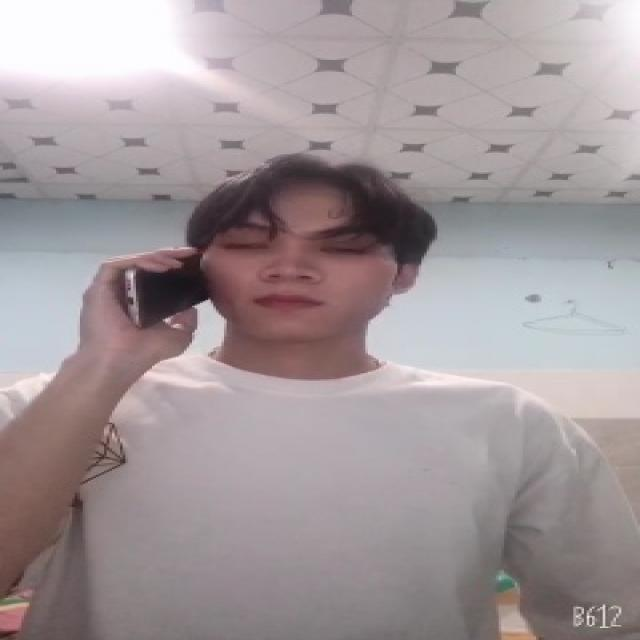Phone: (114, 249, 213, 329)
